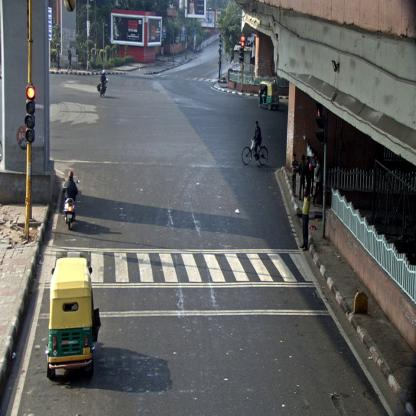motorcycle: (242, 121, 269, 166), (61, 169, 77, 229), (98, 68, 106, 97)
